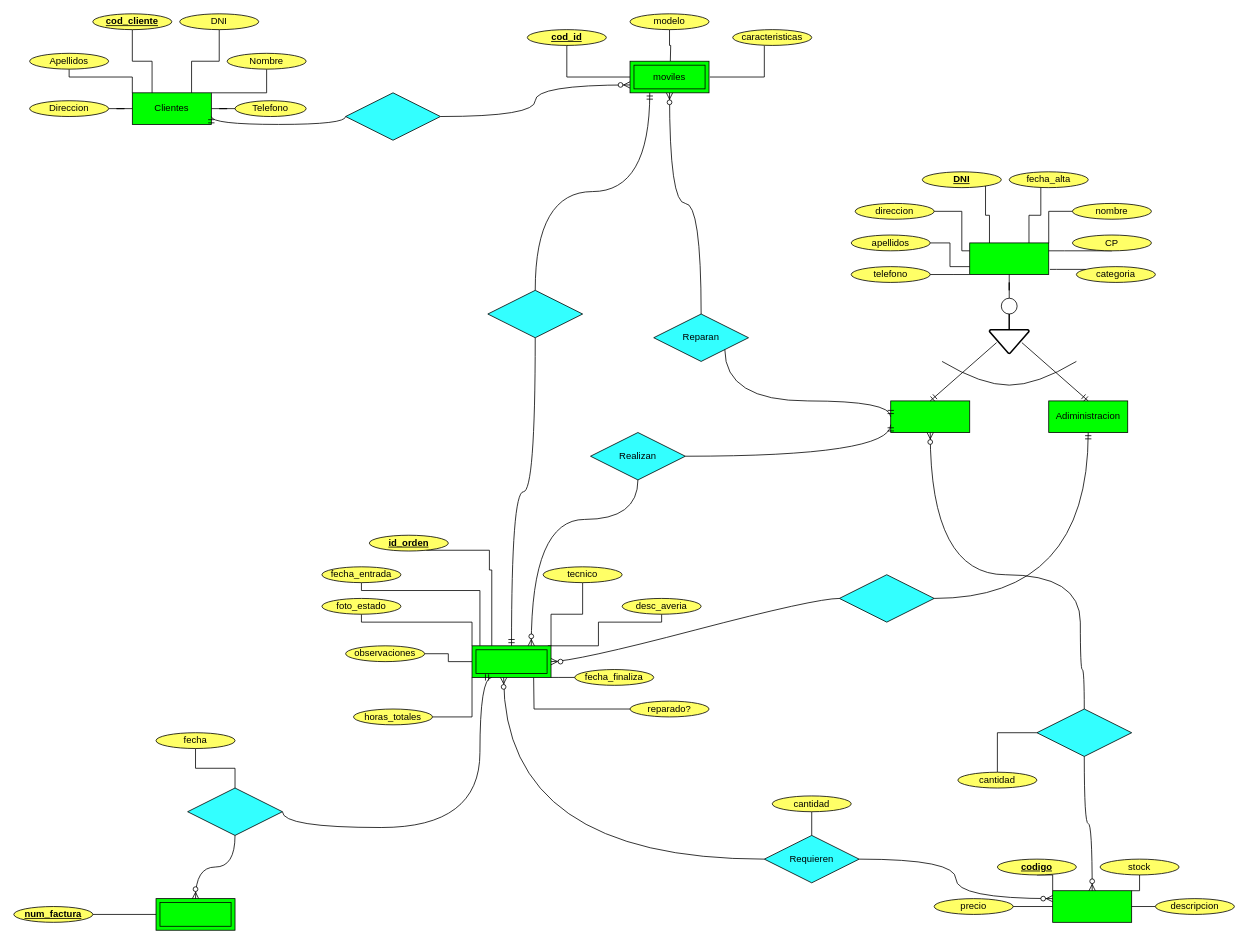
Some shapes in this 1248 by 944 pixel diagram are drawn without their labels. The centre of each missing label's shape, as x and y in pixels:
Asignan a: point (535, 314)
crean: point (886, 598)
Empleados: point (1009, 258)
Factura: point (195, 914)
Generan: point (234, 811)
Orden de reparacion: point (511, 661)
recambios: point (1092, 906)
Sustituyen: point (1084, 732)
Tecnicos: point (930, 416)
Traen: point (392, 116)
